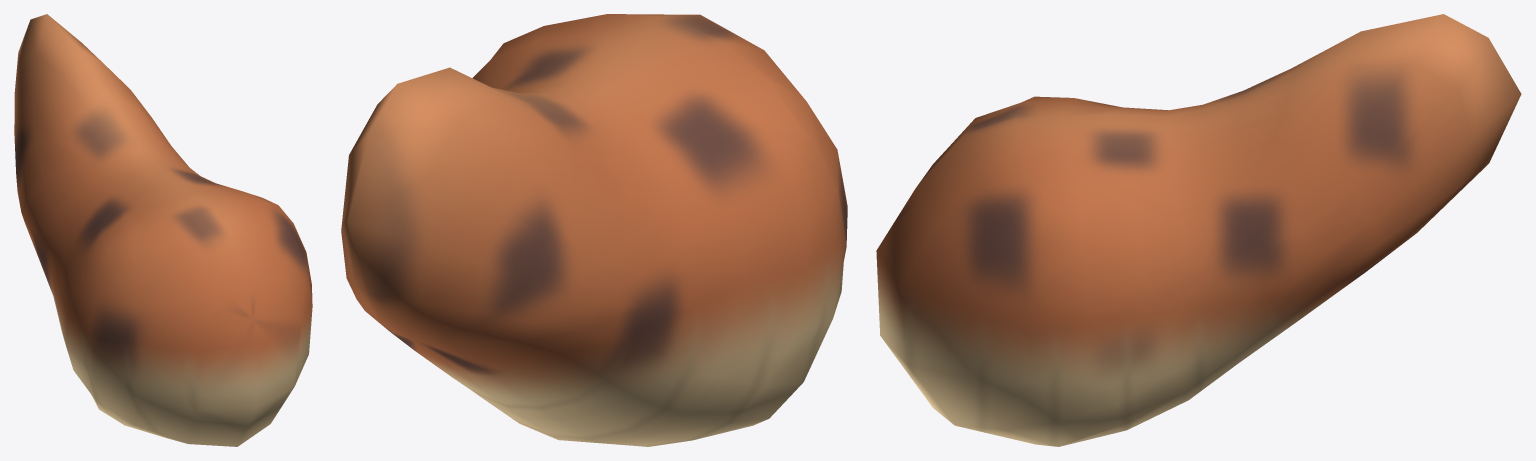
The model's file is SnakeTail.fbx.
3 views of the same model, side by side, from view 1: azimuth 30°, elevation 25°; view 2: azimuth 150°, elevation 25°; view 3: azimuth 270°, elevation 25° (orthographic). The views are drawn at different scales.
Visible parts, largest first — view 1: SnakeTail; view 2: SnakeTail; view 3: SnakeTail.
Part boxes in pixels (x1,y1,x2,y2): SnakeTail: [14, 14, 312, 446]; SnakeTail: [341, 14, 847, 446]; SnakeTail: [876, 14, 1521, 446].
Size of the model in its own units: 35.24 by 47.19 by 66.31.
Materials: 1 (1 with a texture image).
